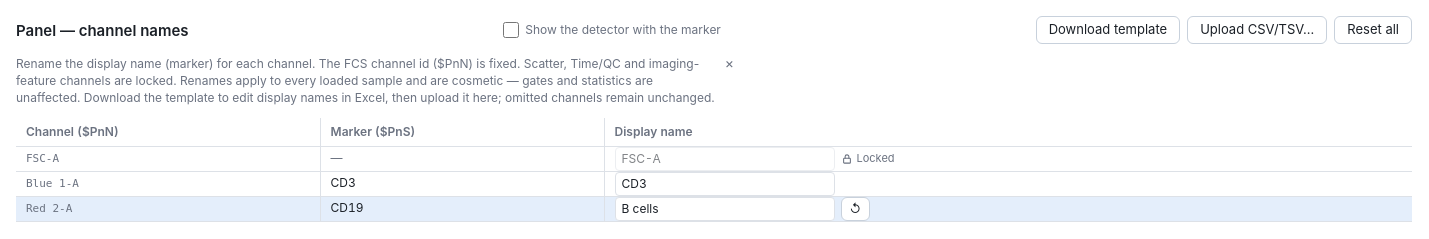
Scenario: PanelTab locked channels and its explanation › hides the explanation with × and brings it back with ? by the title
What coordinates should you click on to do the following:
click the button named "Hide this explanation"
I would click on:
 (729, 63)
Its box is [723,56,736,70].
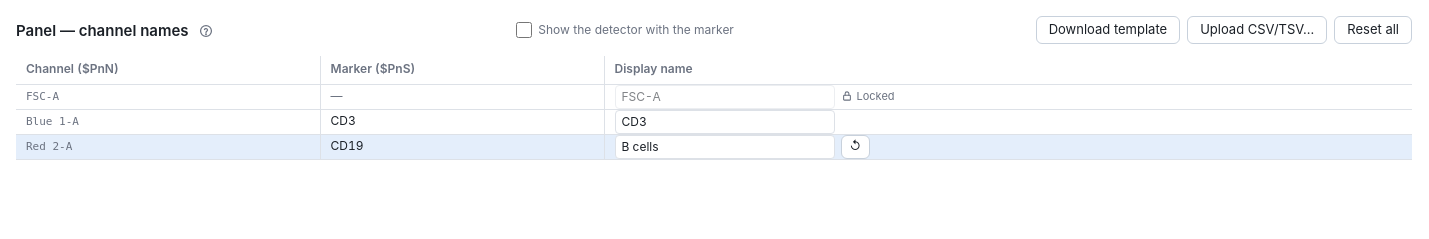
Expected: the text "Rename the display name (marker) for each channel." is gone
What coordinates should you click on to do the following:
click the button named "Show the explanation"
I would click on:
 (206, 31)
Its box is [197,22,215,40].
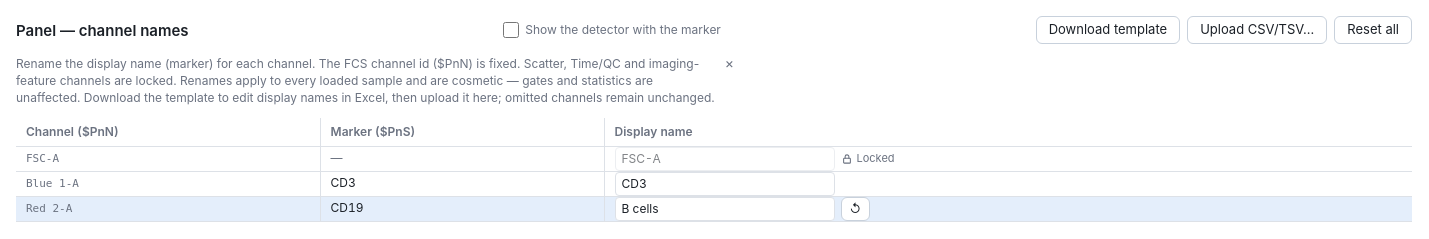
Expected: the text "Rename the display name (marker) for each channel." is shown, [16,56,715,105]
